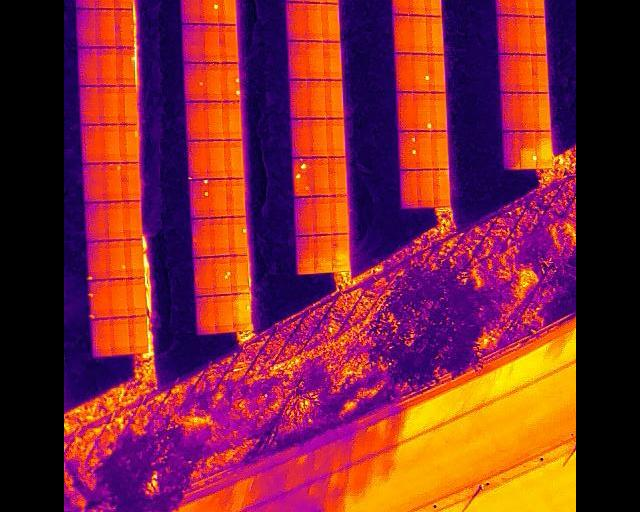Cell: (88, 240, 109, 279), (184, 62, 205, 100), (119, 124, 139, 162), (115, 46, 134, 85), (107, 240, 126, 277), (105, 162, 122, 200), (229, 216, 246, 253), (232, 293, 249, 329), (414, 53, 430, 91), (520, 130, 536, 167), (416, 92, 431, 130), (201, 0, 218, 23), (528, 0, 546, 15)
Cell-Multi: (292, 156, 312, 196), (89, 280, 109, 319), (190, 179, 210, 217), (398, 131, 417, 169), (221, 63, 240, 100), (213, 256, 231, 293)
No-Anomaly: (83, 163, 105, 201), (79, 86, 101, 124), (81, 124, 103, 162), (182, 24, 204, 62), (96, 46, 117, 85), (85, 202, 106, 240), (94, 8, 115, 46), (286, 1, 306, 40), (193, 257, 214, 294), (78, 47, 98, 85), (501, 92, 520, 132), (287, 41, 307, 79), (222, 101, 242, 139), (224, 140, 244, 178), (188, 140, 208, 178), (186, 101, 206, 139), (294, 196, 313, 235), (328, 156, 347, 195), (192, 219, 212, 256), (76, 8, 95, 46), (99, 86, 118, 124), (226, 178, 245, 216), (205, 101, 224, 139), (196, 295, 215, 333), (321, 2, 340, 40), (326, 118, 345, 156), (329, 195, 348, 233), (398, 92, 417, 130), (114, 9, 133, 46), (108, 278, 127, 315), (219, 25, 238, 62), (210, 217, 229, 254), (297, 235, 315, 274), (207, 139, 225, 178), (109, 318, 129, 353), (499, 53, 517, 91), (122, 162, 140, 200), (122, 202, 141, 238), (430, 130, 448, 168), (118, 85, 136, 123), (102, 124, 120, 162), (309, 118, 327, 156), (308, 79, 326, 117), (291, 118, 309, 156), (202, 24, 220, 62), (214, 295, 233, 331), (209, 178, 227, 216), (326, 79, 344, 117), (324, 41, 342, 79), (401, 169, 419, 207), (396, 53, 414, 91), (393, 14, 411, 52), (314, 235, 332, 273), (313, 196, 331, 234), (504, 131, 522, 168), (290, 80, 308, 117), (331, 233, 349, 270), (427, 15, 444, 54), (410, 14, 427, 53), (92, 319, 110, 355), (126, 277, 144, 313), (498, 14, 515, 52), (312, 157, 329, 195), (305, 2, 322, 40), (307, 41, 324, 79), (520, 91, 536, 131), (514, 16, 531, 53), (429, 54, 446, 91), (107, 201, 124, 238), (231, 255, 248, 292), (205, 63, 222, 100), (129, 315, 146, 351), (431, 92, 447, 130), (535, 92, 551, 130), (533, 55, 549, 93), (126, 239, 142, 276), (536, 130, 552, 167), (518, 54, 533, 92), (418, 169, 433, 207), (417, 130, 432, 168), (434, 169, 449, 206), (530, 16, 544, 53), (181, 0, 202, 23), (218, 0, 236, 23), (496, 0, 515, 14), (424, 0, 441, 15), (408, 0, 426, 14), (515, 0, 530, 15), (392, 0, 409, 13), (75, 0, 94, 8), (113, 0, 131, 8)
